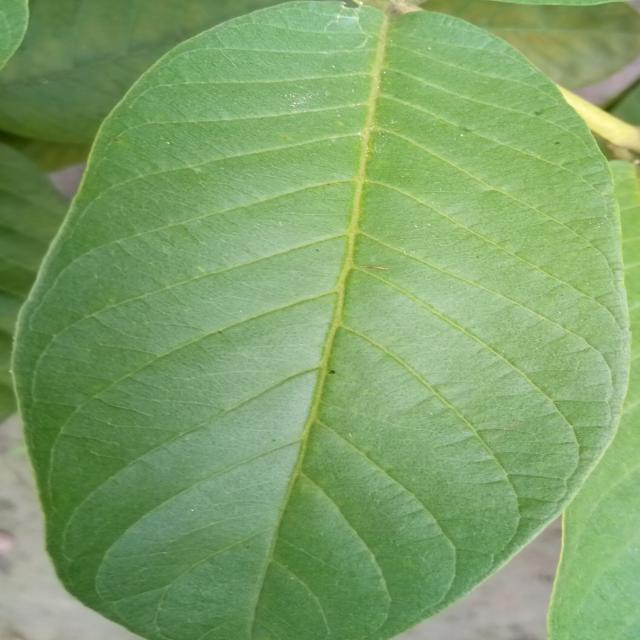Disease Free: (14, 4, 627, 640)
